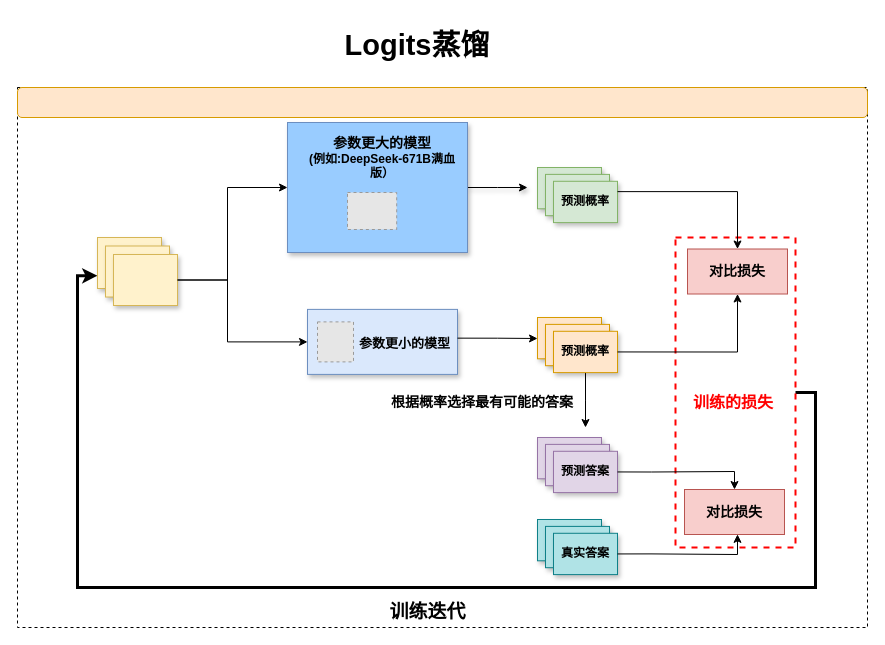
The diagram is 885 pixels wide and 645 high, and some of its shapes have lost their labels. Grey dashed boxes stand in for pictures. Each missing label, with the centre of its shape:
"利用预测的差异训练参数更小的模型" goes at [442,102].
"提问" goes at [146,281].
